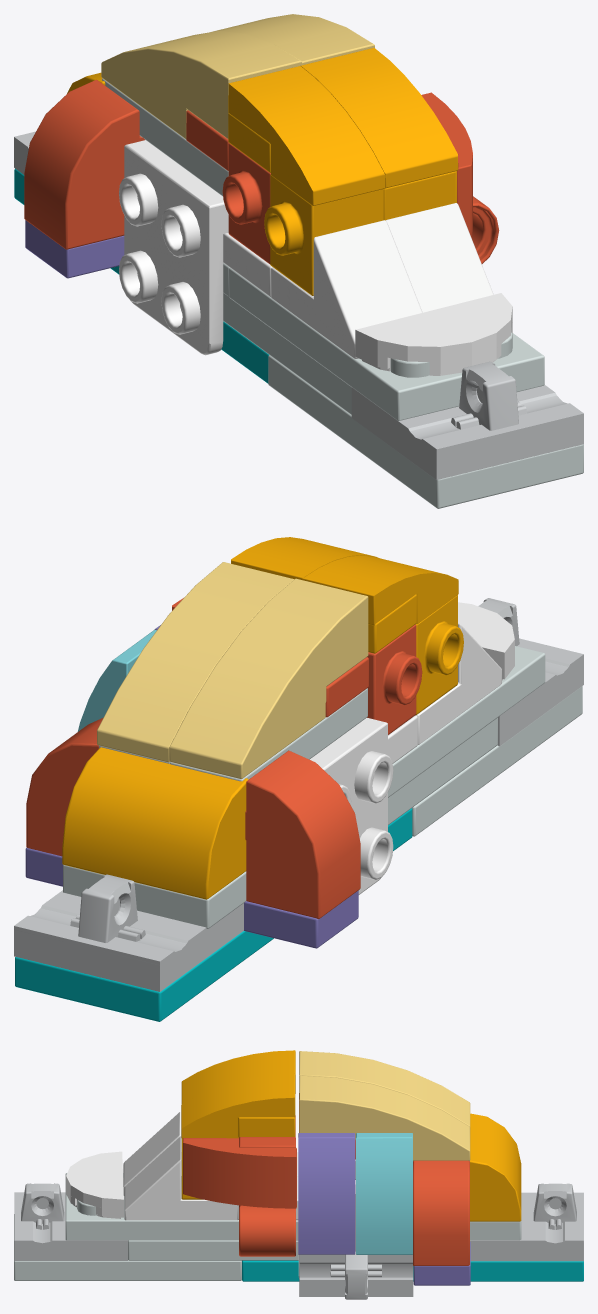
Rendered from Passo26.fbx.
The picture shows the model from 3 angles, top to bottom: view 1: azimuth 30°, elevation 25°; view 2: azimuth 150°, elevation 25°; view 3: azimuth 270°, elevation 25°; orthographic projection. The views are drawn at different scales.
Parts seen in each view (by area): view 1: Bracket__1x2__1_.009, Hinge_plate_2x2__1_.014, Brick_cuved_1x2x1__1_.010, Slope_curved_2x1_1.002, Slope_curved_3x1__1_.004, Slope_2x1_2__1_.011, Slope_curved_2x1__1__1.002, Plate_2x4__2_.013, Plate_2x4__1__1.013, Tile_round_1x2.018, Slope_2x1_2.011, Brick_special_1x1__1_.006 (+12 smaller); view 2: Slope_curved_3x1__1_.004, Brick_curved_2x1.012, Brick_cuved_1x2x1__1_.010, Slope_curved_3x1.008, Hinge_plate_2x2_1.003, Plate_2x6.016, Bracket__1x2__1_.009, Slope_curved_2x1_1.002, Plate_2x4__2_.013, Brick_cuved_1x2x1.010, Plate_2x4__1__1.013, Plate_1x4.015 (+13 smaller); view 3: Slope_curved_3x1.008, Slope_curved_2x1.004, Slope_curved_2x1__2_, Slope_curved_2x1__1_.004, Brick_cuved_1x2x1.010, Hinge_plate_2x2_1.003, Hinge_plate_2x2__1_.014, Slope_curved_2x1__1__1.002, Hinge_plate_2x2.016, Brick_curved_2x1.012, Plate_2x4__1__1.013, Slope_2x1_2.011 (+11 smaller).
Part boxes in pixels (left/top/right/bottom): Bracket__1x2__1_.009: left=119, top=140, right=228, bottom=355; Hinge_plate_2x2__1_.014: left=351, top=361, right=583, bottom=479; Brick_cuved_1x2x1__1_.010: left=24, top=79, right=144, bottom=249; Slope_curved_2x1_1.002: left=228, top=66, right=385, bottom=205; Slope_curved_3x1__1_.004: left=101, top=31, right=301, bottom=138; Slope_2x1_2__1_.011: left=271, top=220, right=422, bottom=358; Slope_curved_2x1__1__1.002: left=301, top=48, right=458, bottom=188; Plate_2x4__2_.013: left=229, top=268, right=544, bottom=420; Plate_2x4__1__1.013: left=268, top=355, right=583, bottom=508; Tile_round_1x2.018: left=355, top=293, right=512, bottom=375; Slope_2x1_2.011: left=386, top=203, right=493, bottom=312; Brick_special_1x1__1_.006: left=264, top=174, right=383, bottom=295; Slope_curved_3x1__1_.004: left=169, top=578, right=368, bottom=779; Brick_curved_2x1.012: left=62, top=747, right=248, bottom=899; Brick_cuved_1x2x1__1_.010: left=245, top=750, right=360, bottom=919; Slope_curved_3x1.008: left=97, top=562, right=294, bottom=762; Hinge_plate_2x2_1.003: left=14, top=874, right=243, bottom=991; Plate_2x6.016: left=15, top=808, right=412, bottom=1021; Bracket__1x2__1_.009: left=309, top=718, right=393, bottom=894; Slope_curved_2x1_1.002: left=302, top=555, right=458, bottom=625; Plate_2x4__2_.013: left=388, top=646, right=545, bottom=797; Brick_cuved_1x2x1.010: left=26, top=718, right=102, bottom=856; Plate_2x4__1__1.013: left=412, top=686, right=582, bottom=836; Plate_1x4.015: left=25, top=847, right=358, bottom=948; Slope_curved_3x1.008: left=299, top=1075, right=470, bottom=1160; Slope_curved_2x1.004: left=298, top=1133, right=355, bottom=1254; Slope_curved_2x1__2_: left=183, top=1138, right=296, bottom=1208; Slope_curved_2x1__1_.004: left=356, top=1133, right=412, bottom=1254; Brick_cuved_1x2x1.010: left=413, top=1160, right=469, bottom=1265; Hinge_plate_2x2_1.003: left=470, top=1183, right=583, bottom=1261; Hinge_plate_2x2__1_.014: left=14, top=1183, right=127, bottom=1260; Slope_curved_2x1__1__1.002: left=181, top=1073, right=295, bottom=1138; Hinge_plate_2x2.016: left=299, top=1184, right=413, bottom=1299; Brick_curved_2x1.012: left=470, top=1113, right=521, bottom=1221; Plate_2x4__1__1.013: left=14, top=1214, right=241, bottom=1280; Slope_2x1_2.011: left=124, top=1136, right=237, bottom=1220.
Size of the model in its own units: 0.3333 by 0.2876 by 0.8002.
